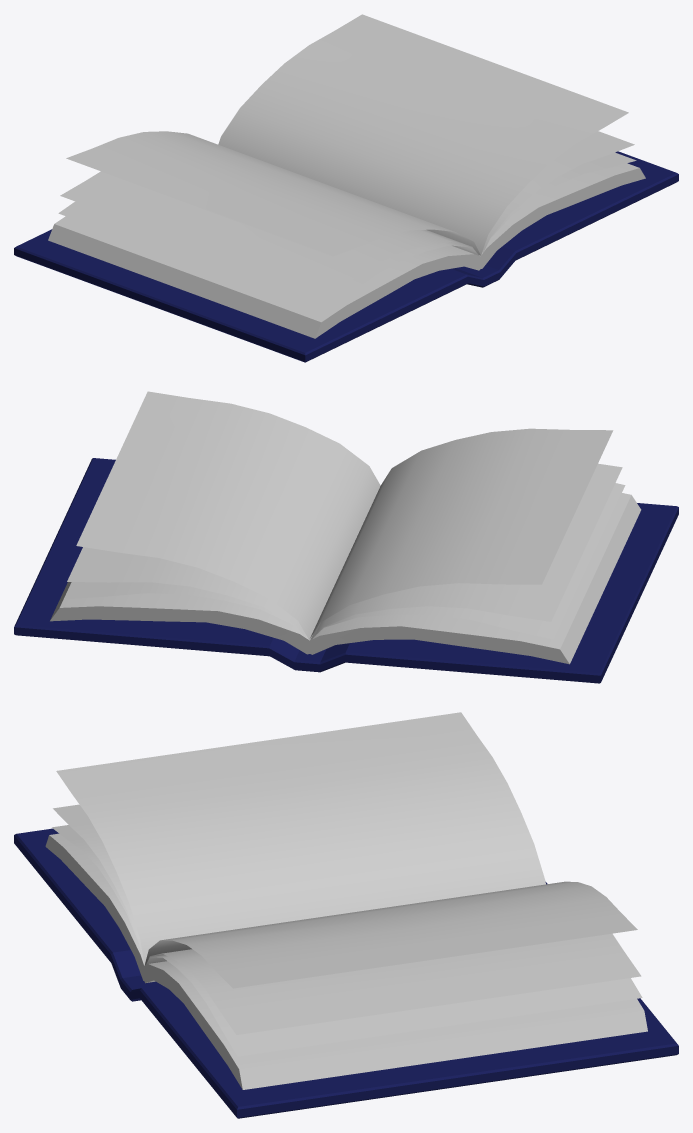
Rendered from libro.gltf.
3 views of the same model, one above another, from view 1: azimuth 30°, elevation 25°; view 2: azimuth 150°, elevation 25°; view 3: azimuth 270°, elevation 25° (orthographic). The views are drawn at different scales.
Parts seen in each view (by area): view 1: book; view 2: book; view 3: book.
Part boxes in pixels (x1=…): book: x1=14, y1=14, x2=678, y2=362; book: x1=14, y1=391, x2=678, y2=683; book: x1=14, y1=712, x2=678, y2=1118.
Size of the model in its own units: 95.26 by 15.01 by 79.
